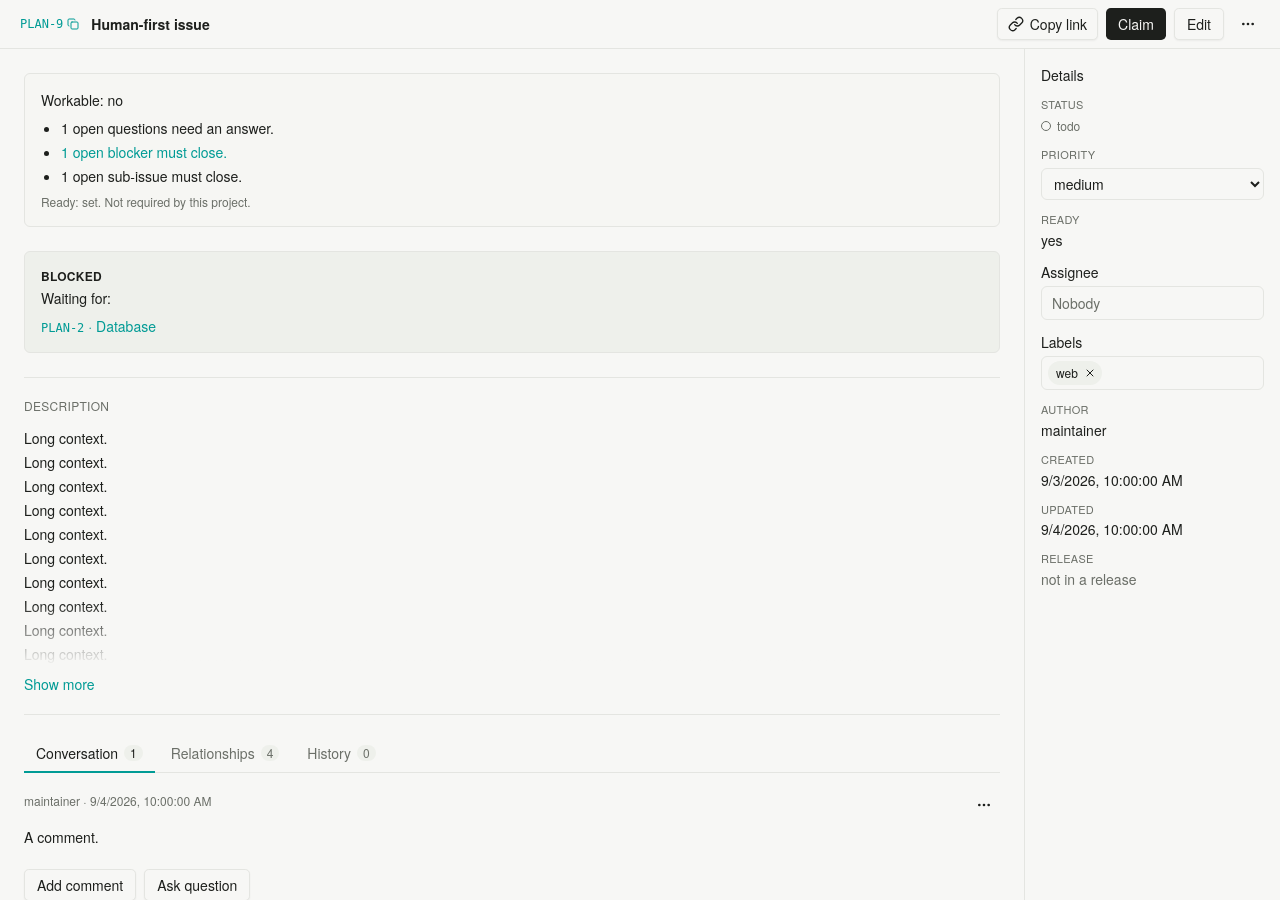
the human-first issue detail › finds cross-project blockers by key and keeps the choice after a cycle refusal
Click the tab "Relationships 4". click: (225, 754)
box: 159,735 -> 291,773
(page scrolled)
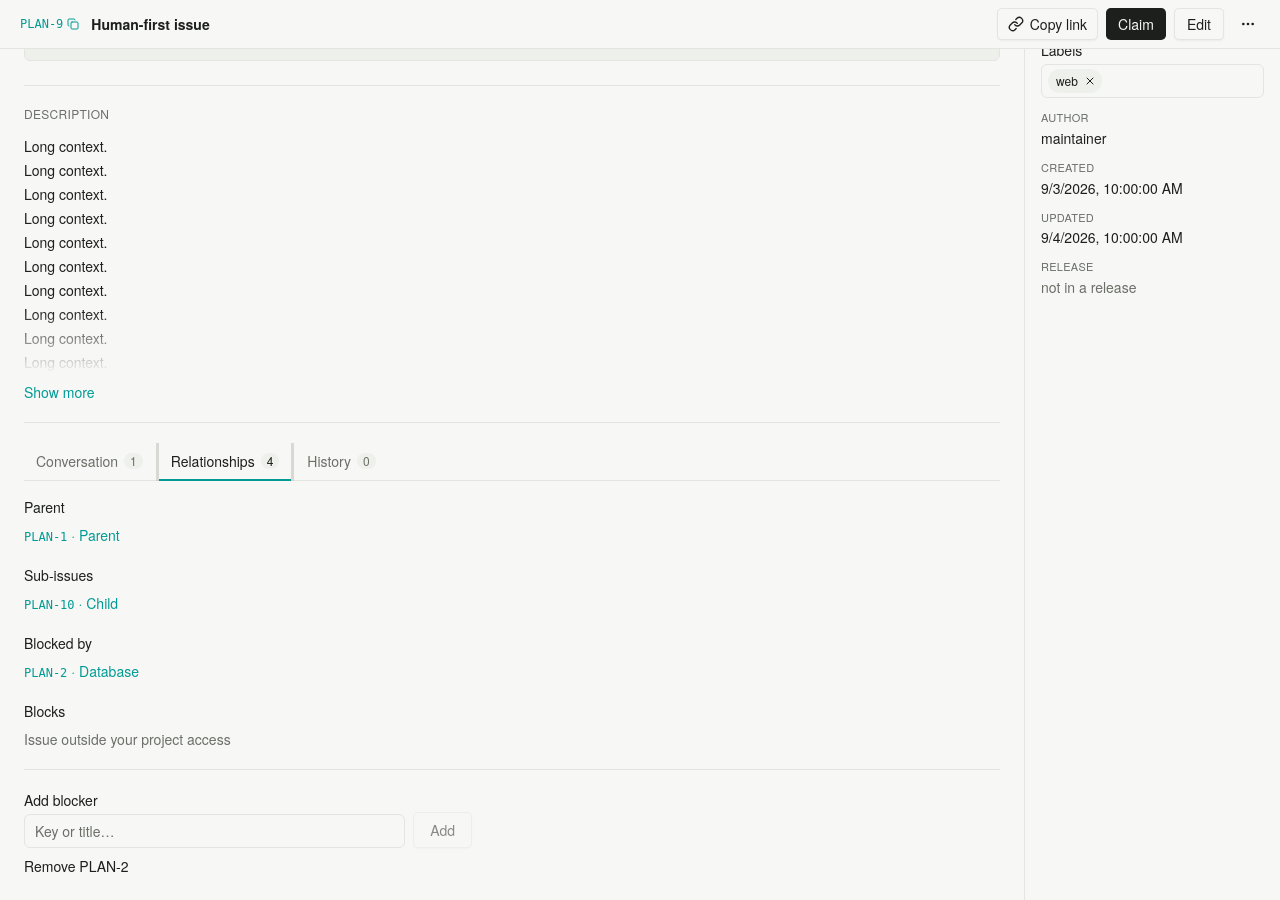
Type "OTHER-7" into the dropdown labelled "Add blocker". click: (215, 831)
box: 31,819 -> 398,843
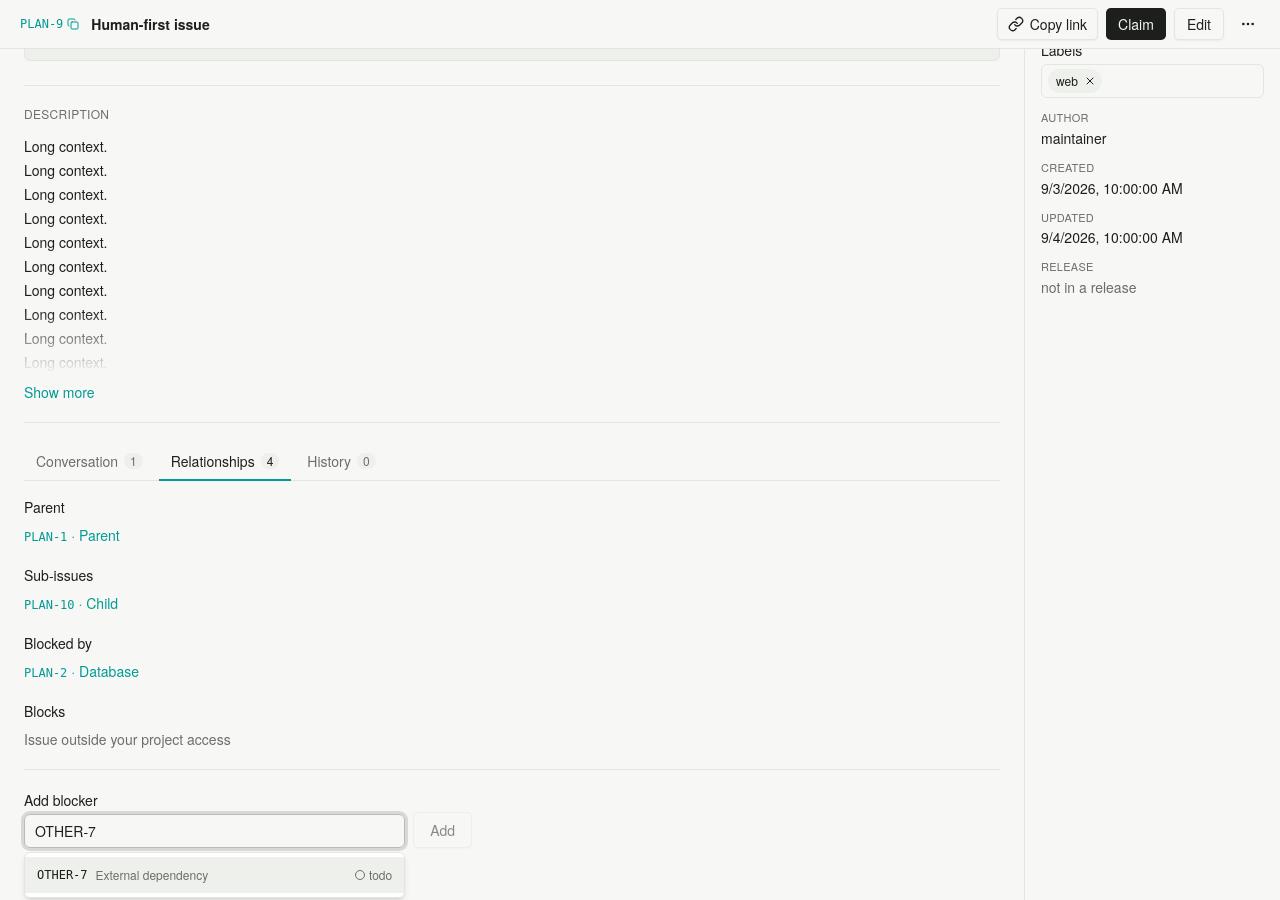
Click the option "OTHER-7 External dependency todo". click: (62, 875)
box: 25,857 -> 404,893
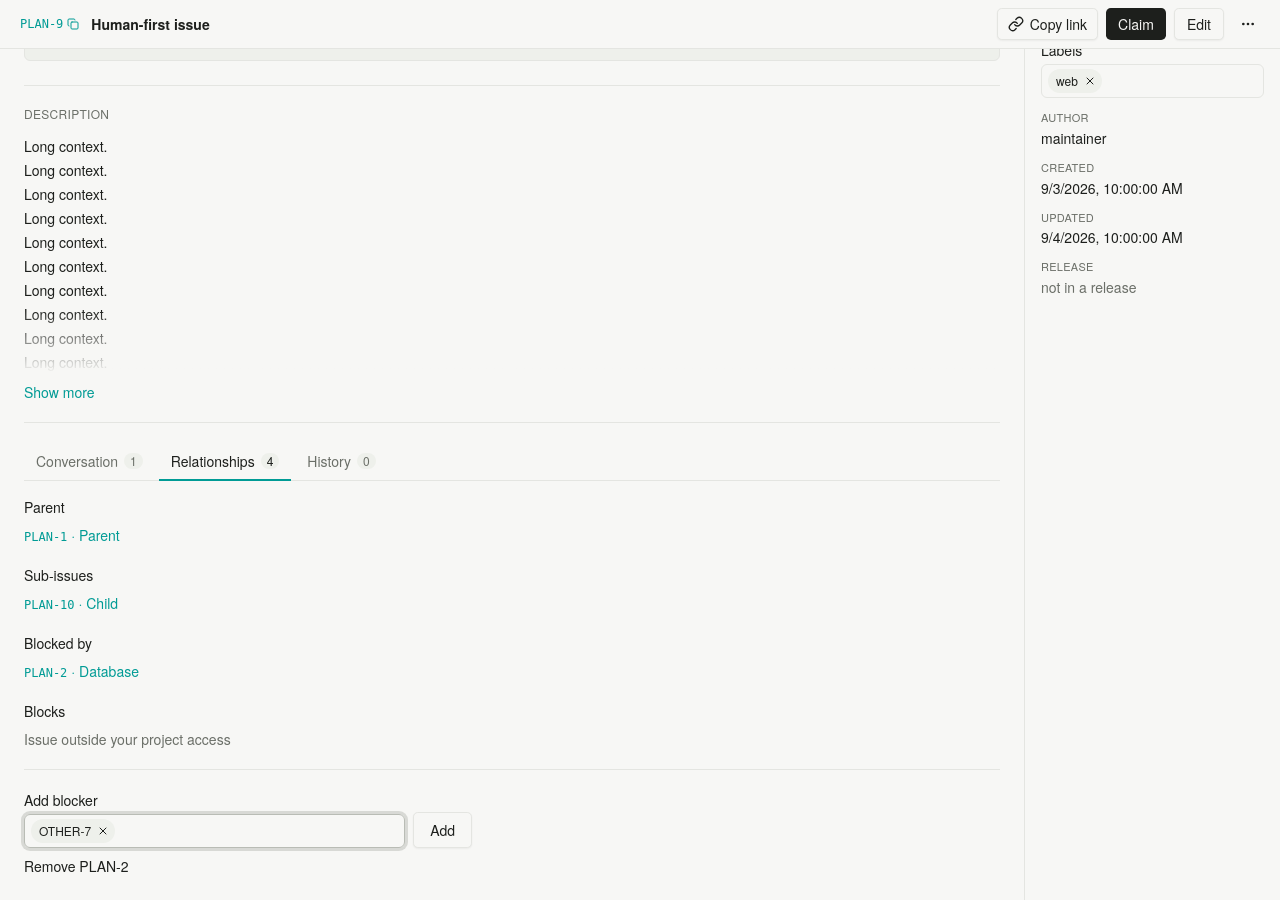
Click the button "Add". click: (443, 830)
box: 413,812 -> 472,848
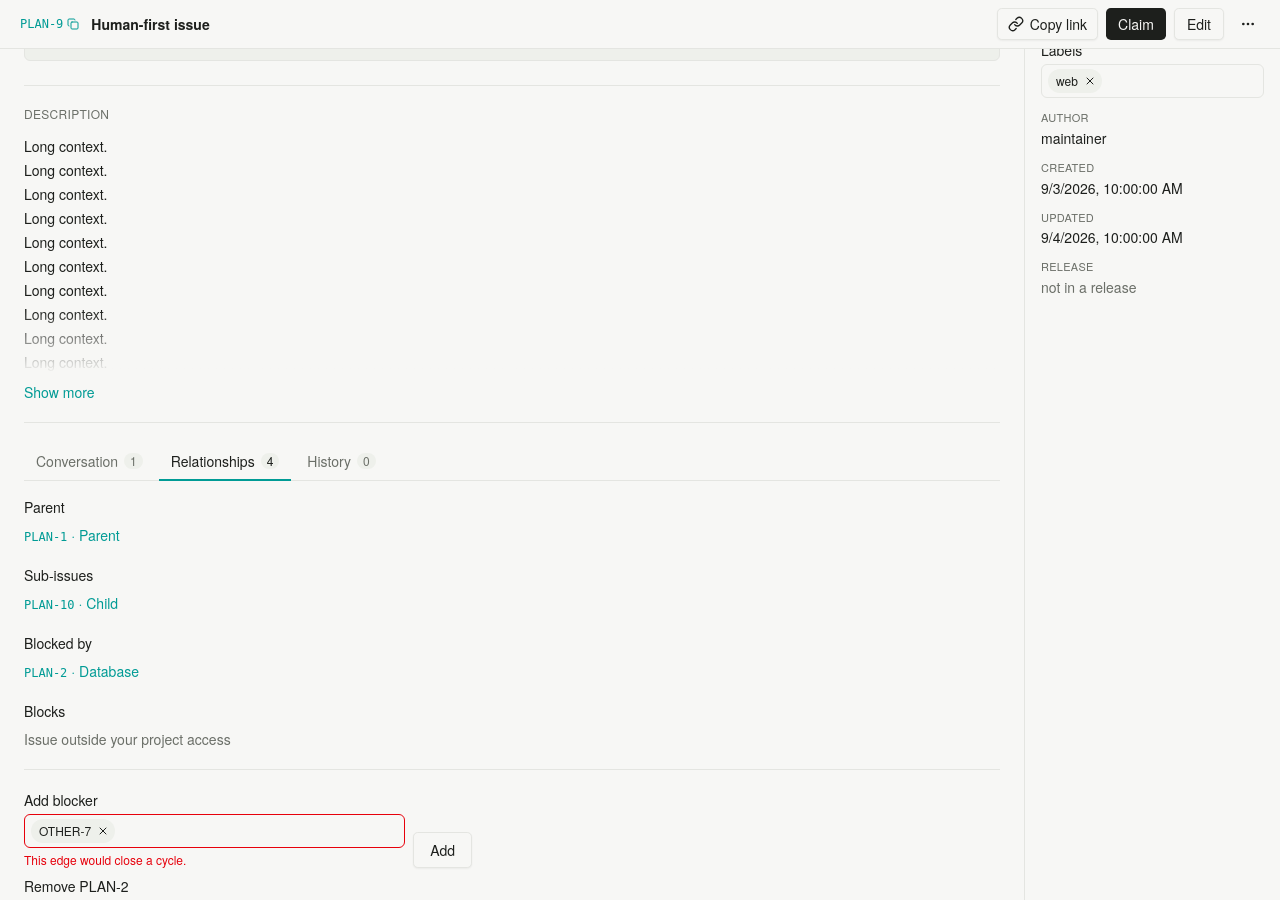
Now the button named "Remove OTHER-7" is shown, box 95,823 -> 111,839
Now the text "This edge would close a cycle." is shown, box 24,851 -> 186,868
Click the button "Add". click: (443, 850)
box: 413,832 -> 472,868
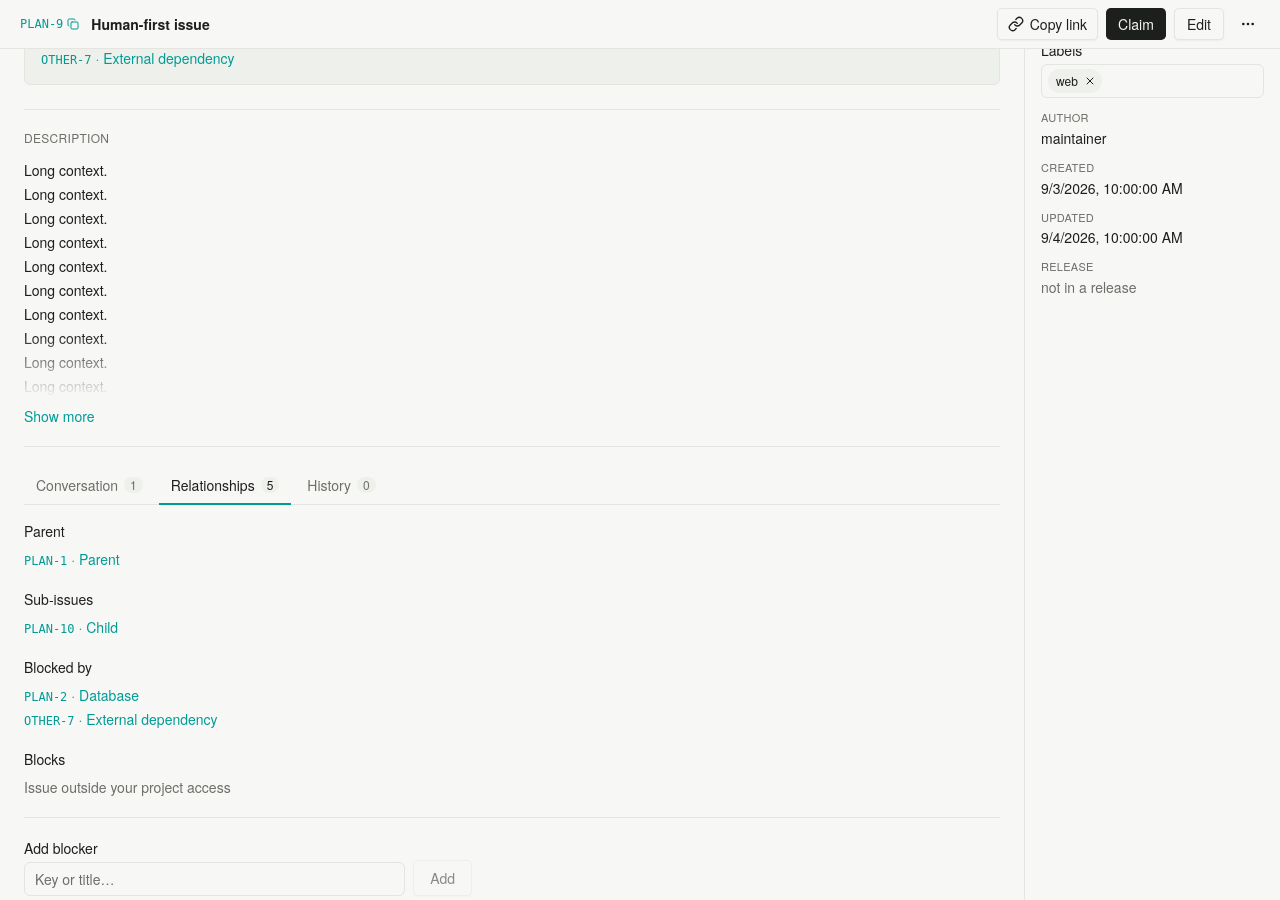
Now the tab "Relationships 5" is shown, box 159,467 -> 291,505
